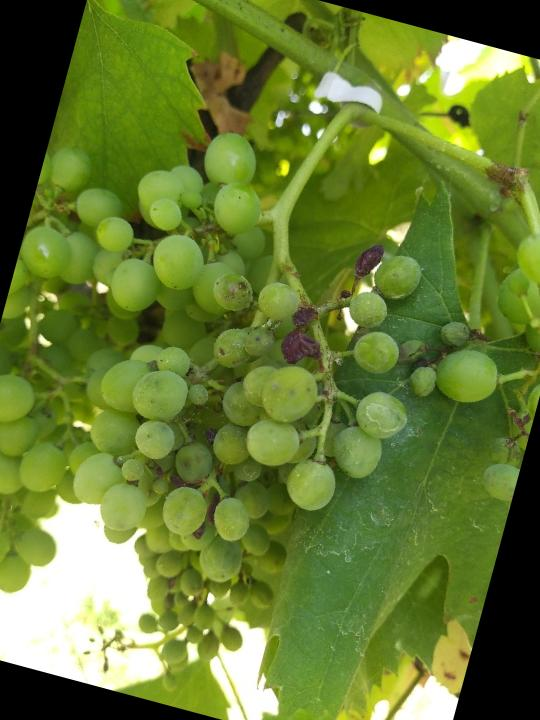grape: (17, 105, 471, 619)
